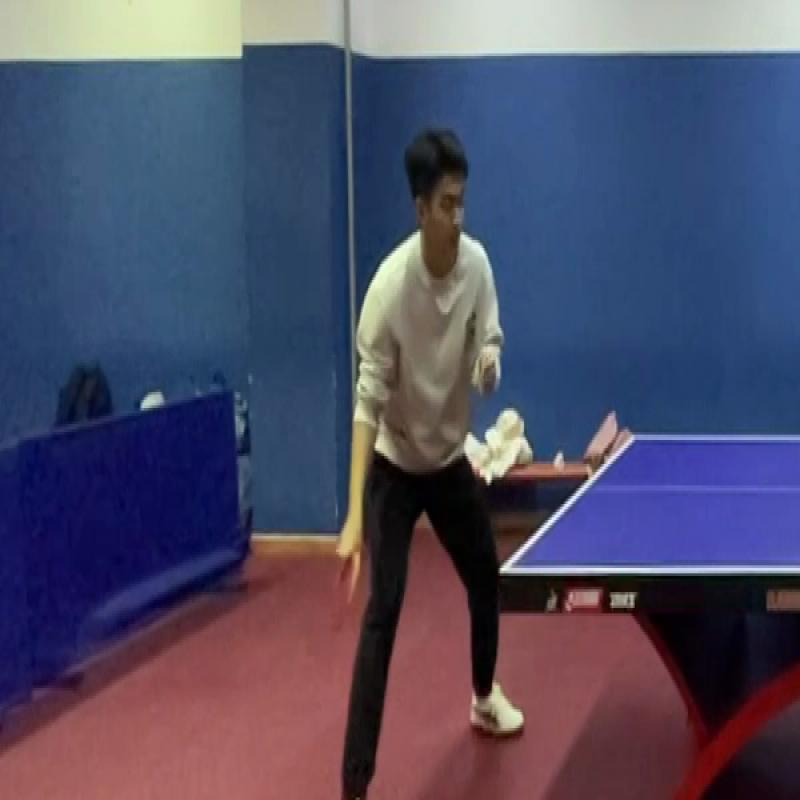bats: (327, 535, 371, 624)
